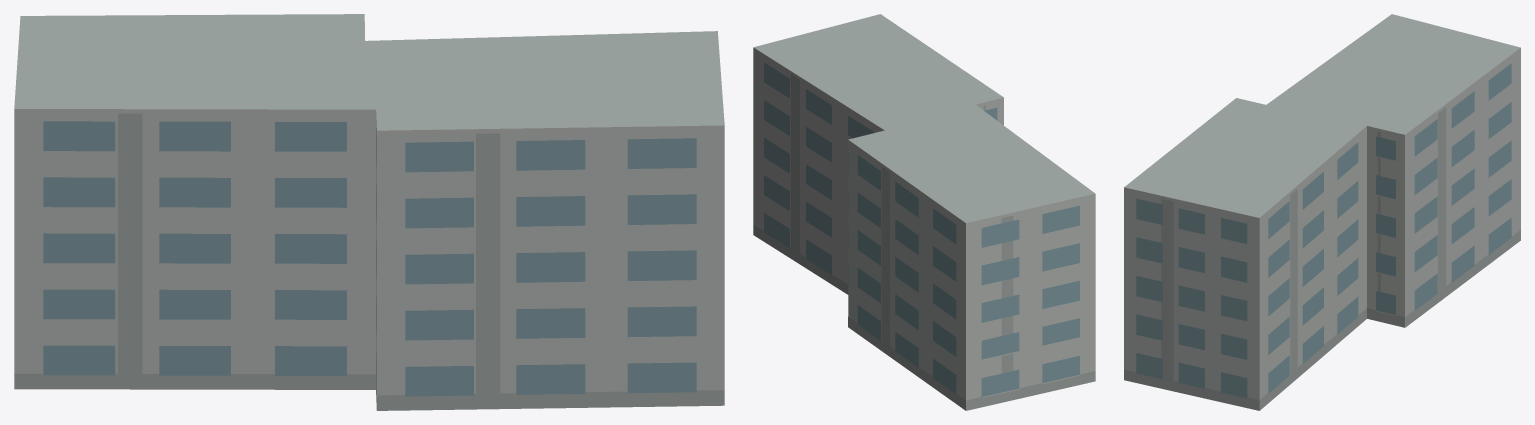
Rendered from residential-34dd270f-8508-4fe6-8e35-415774a80370.glb.
3 renders of one model, left to right at view 1: azimuth 30°, elevation 25°; view 2: azimuth 150°, elevation 25°; view 3: azimuth 270°, elevation 25°, orthographic. The views are drawn at different scales.
Parts seen in each view (by area): view 1: residential-34dd270f-8508-4fe6-8e35-415774a80370.tmp; view 2: residential-34dd270f-8508-4fe6-8e35-415774a80370.tmp; view 3: residential-34dd270f-8508-4fe6-8e35-415774a80370.tmp.
Part boxes in pixels (<box>): residential-34dd270f-8508-4fe6-8e35-415774a80370.tmp: <box>14,14,724,410</box>; residential-34dd270f-8508-4fe6-8e35-415774a80370.tmp: <box>753,14,1095,410</box>; residential-34dd270f-8508-4fe6-8e35-415774a80370.tmp: <box>1124,14,1520,410</box>.
Size of the model in its own units: 34.6 by 15.25 by 28.44.
